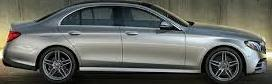Cars: (3, 2, 267, 82)
